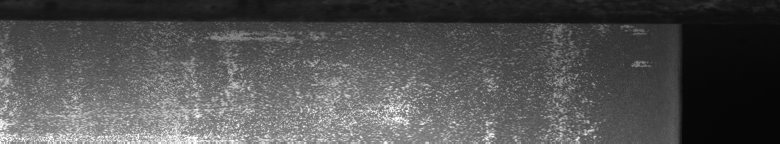kb: (4, 20, 651, 136)
